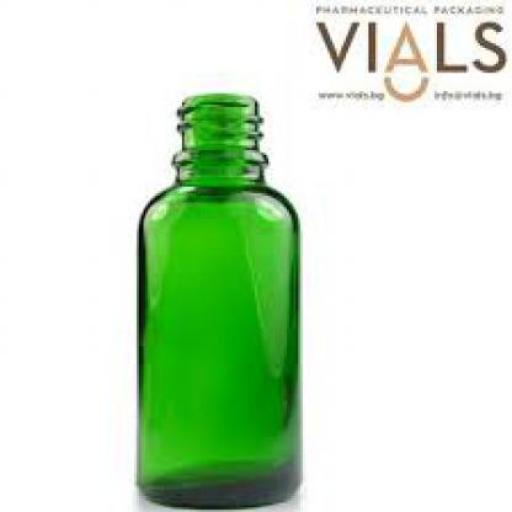glass: (137, 90, 300, 508)
